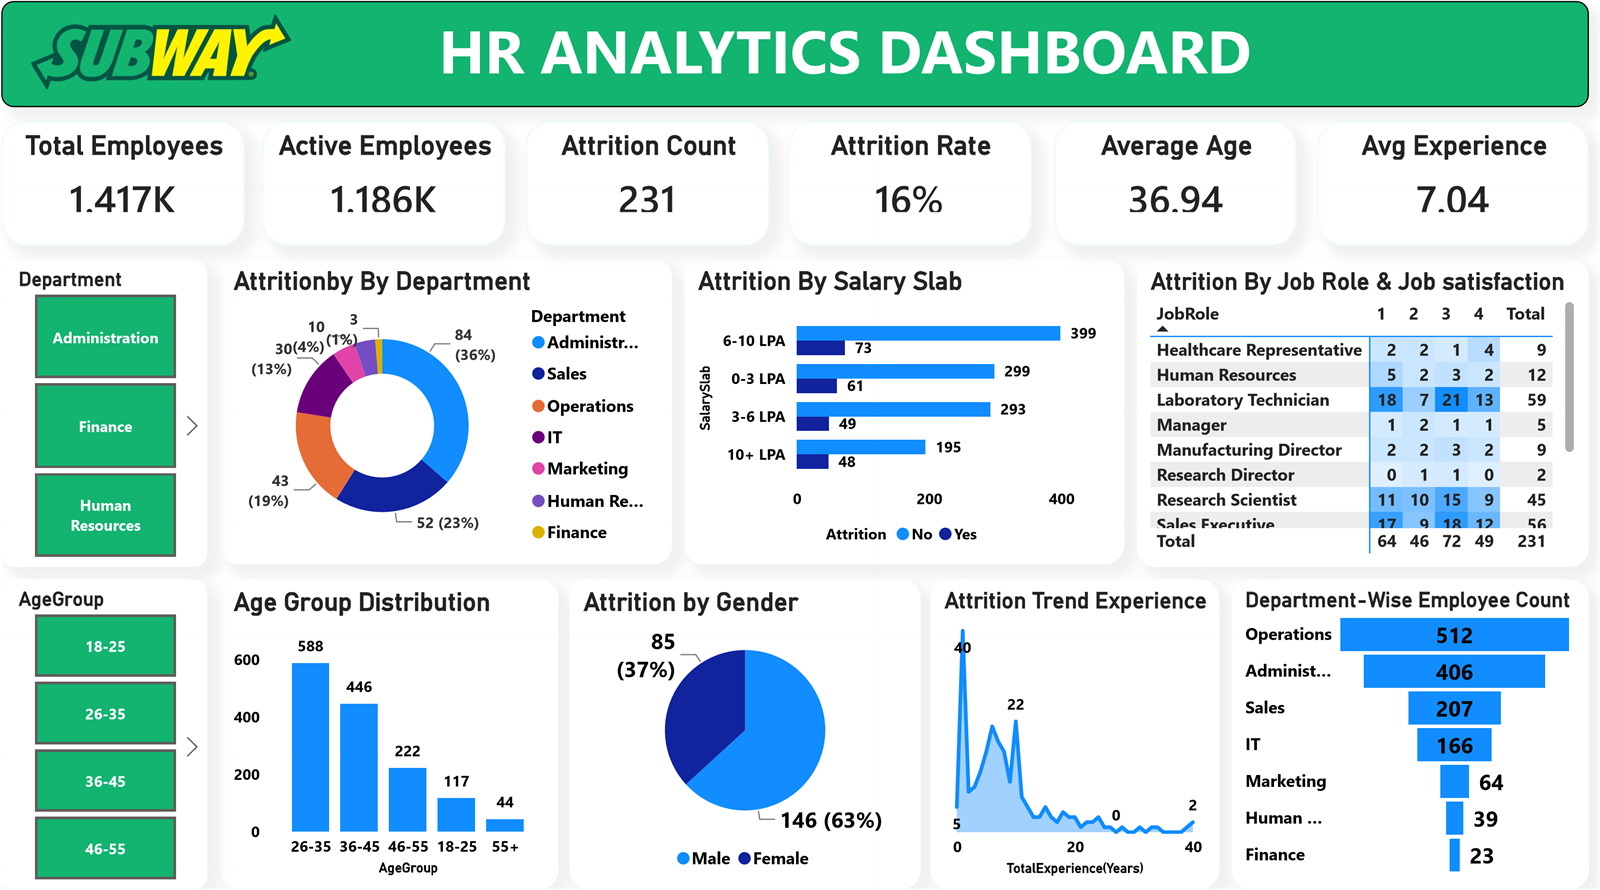

The dashboard page shown, as its layout file describes it:
{"tool":"powerbi","page":{"name":"Page 1","canvas":[1280,720],"ordinal":0},"visuals":[{"type":"textbox","box":[0,8.6,1270.5,85.6],"z":0},{"type":"donutChart","title":"Attritionby By Department","fields":{"Category":["HR_Analytics-4.Department"],"Y":["Sum(HR_Analytics-4.AttritionCount)"]},"box":[174.6,215,362,245.3],"z":1000},{"type":"columnChart","title":"Age Group Distribution","fields":{"Category":["HR_Analytics-4.AgeGroup"],"Y":["Sum(HR_Analytics-4.EmployeeCount)"]},"box":[174.6,472.1,271.9,247.8],"z":2000},{"type":"image","box":[24.5,6.1,216.4,89.3],"z":3000},{"type":"clusteredBarChart","title":"Attrition By Salary Slab","fields":{"Y":["CountNonNull(HR_Analytics-4.EmpID)"],"Category":["HR_Analytics-4.SalarySlab"],"Series":["HR_Analytics-4.Attrition"]},"box":[547,215,351.7,245.3],"z":4000},{"type":"pieChart","title":"Attrition by Gender","fields":{"Y":["Sum(HR_Analytics-4.AttritionCount)"],"Category":["HR_Analytics-4.Gender"]},"box":[455.4,471.8,280.4,247.8],"z":5000},{"type":"cardVisual","title":"Total Employees","fields":{"Data":["CountNonNull(HR_Analytics-4.EmpID)"]},"box":[0,105.3,194.8,99.6],"z":6000},{"type":"pivotTable","title":"Attrition By Job Role & Job satisfaction","fields":{"Values":["Sum(HR_Analytics-4.AttritionCount)"],"Rows":["HR_Analytics-4.JobRole"],"Columns":["HR_Analytics-4.JobSatisfaction"]},"box":[909,216.3,362,245.3],"z":7000},{"type":"areaChart","title":"Attrition Trend Experience","fields":{"Category":["HR_Analytics-4.TotalExperience(Years)"],"Y2":["Sum(HR_Analytics-4.AttritionCount)"]},"box":[744.3,471.8,230.8,247.8],"z":8000},{"type":"cardVisual","title":"Active Employees","fields":{"Data":["CountNonNull(HR_Analytics-4.EmployeeCount)"]},"box":[209.2,105.3,194.8,99.6],"z":9000},{"type":"funnel","title":" Department-Wise Employee Count","fields":{"Category":["HR_Analytics-4.Department"],"Y":["CountNonNull(HR_Analytics-4.EmpID)"]},"box":[985,471.8,286,247.8],"z":10000},{"type":"cardVisual","title":"Attrition Count ","fields":{"Data":["Sum(HR_Analytics-4.AttritionCount)"]},"box":[419.8,105.3,194.8,99.6],"z":11000},{"type":"cardVisual","title":"Attrition Rate","fields":{"Data":["HR_Analytics-4.Attrition Rate %"]},"box":[630.5,105.3,194.8,99.6],"z":12000},{"type":"slicer","fields":{"Values":["HR_Analytics-4.Department"]},"box":[0,216.4,165.1,245.8],"z":13000},{"type":"slicer","fields":{"Values":["HR_Analytics-4.AgeGroup"]},"box":[0,472,165.1,248.2],"z":14000},{"type":"cardVisual","title":"Average Age","fields":{"Data":["Avg(HR_Analytics-4.Age)"]},"box":[842.6,105.3,194.8,99.6],"z":15000},{"type":"cardVisual","title":"Avg Experience","fields":{"Data":["Avg(HR_Analytics-4.YearsatCompany)"]},"box":[1054.1,105.2,216.4,100.3],"z":16000}]}

Visuals, with their boxes in screenshot pixels (x1, y1, x2, y2), scaled from the page's 1280x720 canvas onto the 1600x890 screenshot:
textbox: 0/11/1588/116
"Attritionby By Department" donutChart: 218/266/671/569
"Age Group Distribution" columnChart: 218/584/558/889
image: 31/8/301/118
"Attrition By Salary Slab" clusteredBarChart: 684/266/1123/569
"Attrition by Gender" pieChart: 569/583/920/889
"Total Employees" cardVisual: 0/130/244/253
"Attrition By Job Role & Job satisfaction" pivotTable: 1136/267/1589/571
"Attrition Trend Experience" areaChart: 930/583/1219/889
"Active Employees" cardVisual: 262/130/505/253
" Department-Wise Employee Count" funnel: 1231/583/1589/889
"Attrition Count " cardVisual: 525/130/768/253
"Attrition Rate" cardVisual: 788/130/1032/253
slicer - HR_Analytics-4.Department: 0/267/206/571
slicer - HR_Analytics-4.AgeGroup: 0/583/206/889
"Average Age" cardVisual: 1053/130/1297/253
"Avg Experience" cardVisual: 1318/130/1588/254
